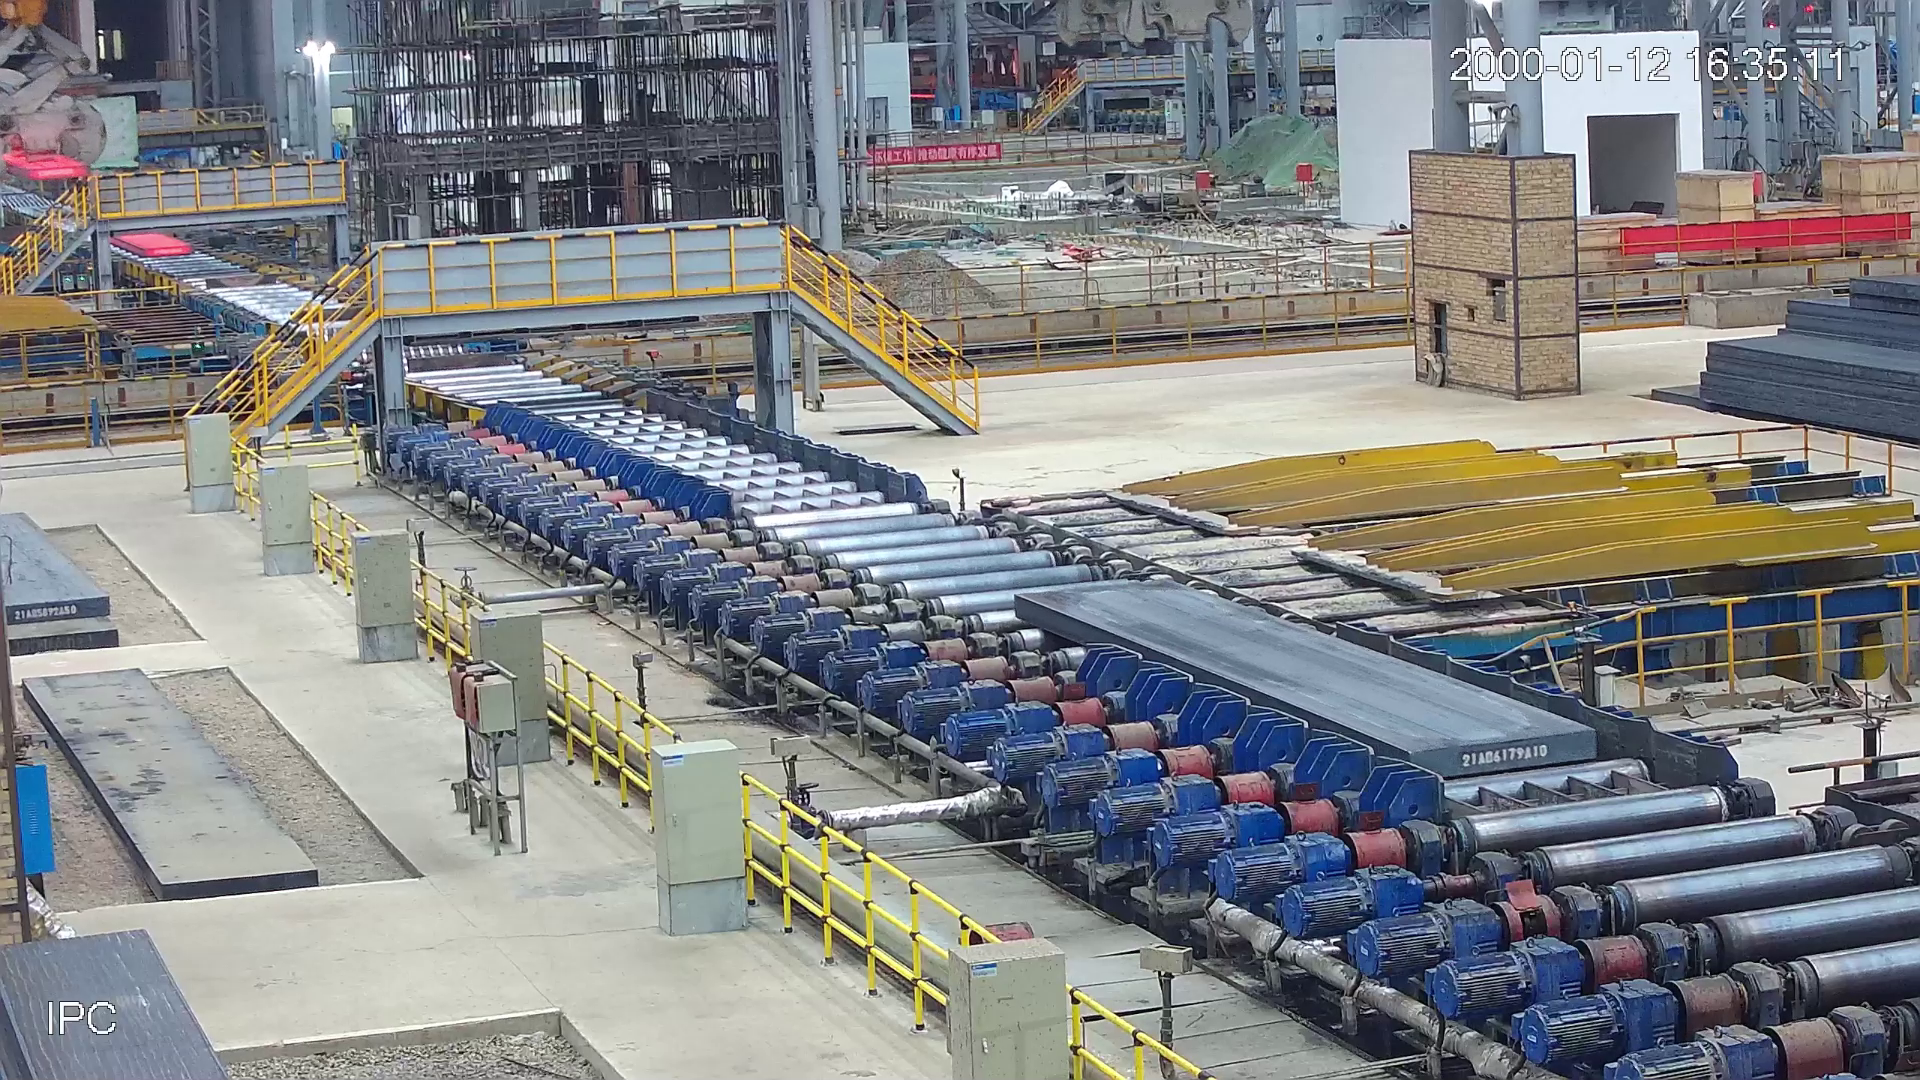craneandslab: (1, 1, 108, 191)
slab: (1013, 585, 1596, 779), (107, 233, 194, 258)
